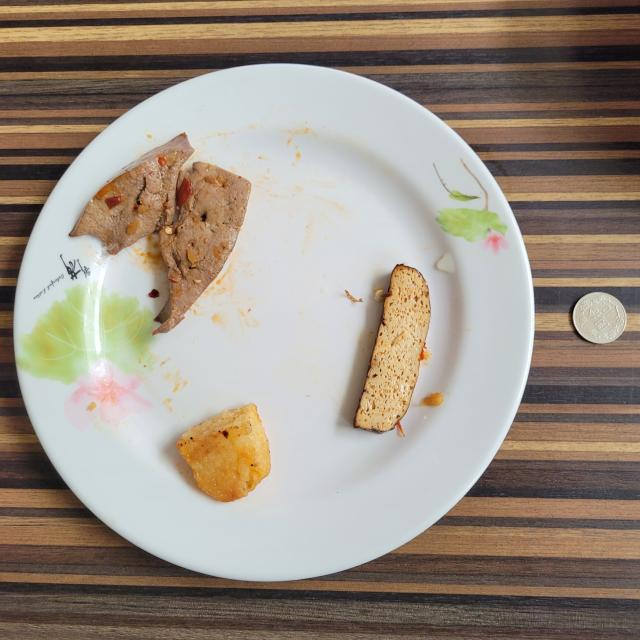coin: (572, 292, 626, 344)
firm tofu: (354, 264, 430, 432)
fried potato: (178, 404, 271, 501)
pig liver: (70, 134, 251, 334)
